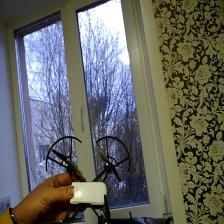drone: (41, 133, 133, 224)
